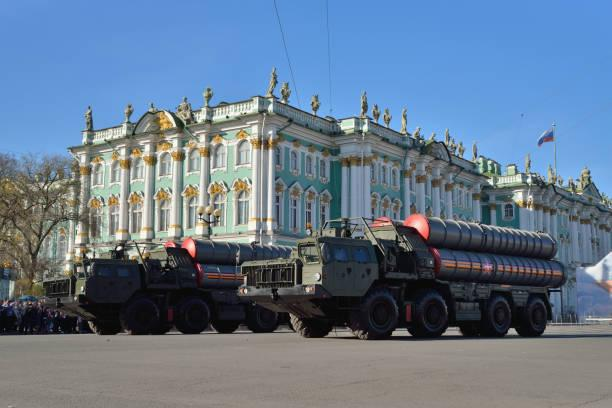MIL_SAM_TEL: (235, 213, 572, 346), (32, 217, 292, 342)
